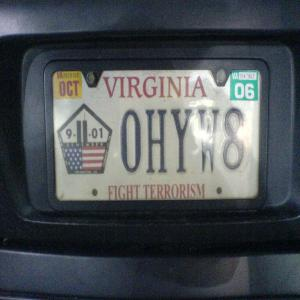Vehicle-registration-plate: (54, 71, 262, 201)
